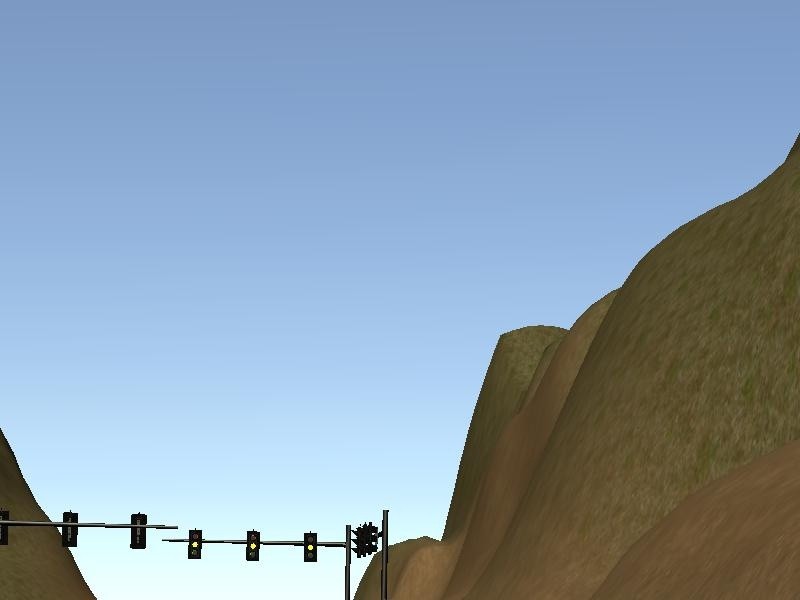yellow: (185, 531, 200, 559), (301, 531, 316, 559), (246, 530, 261, 558)
